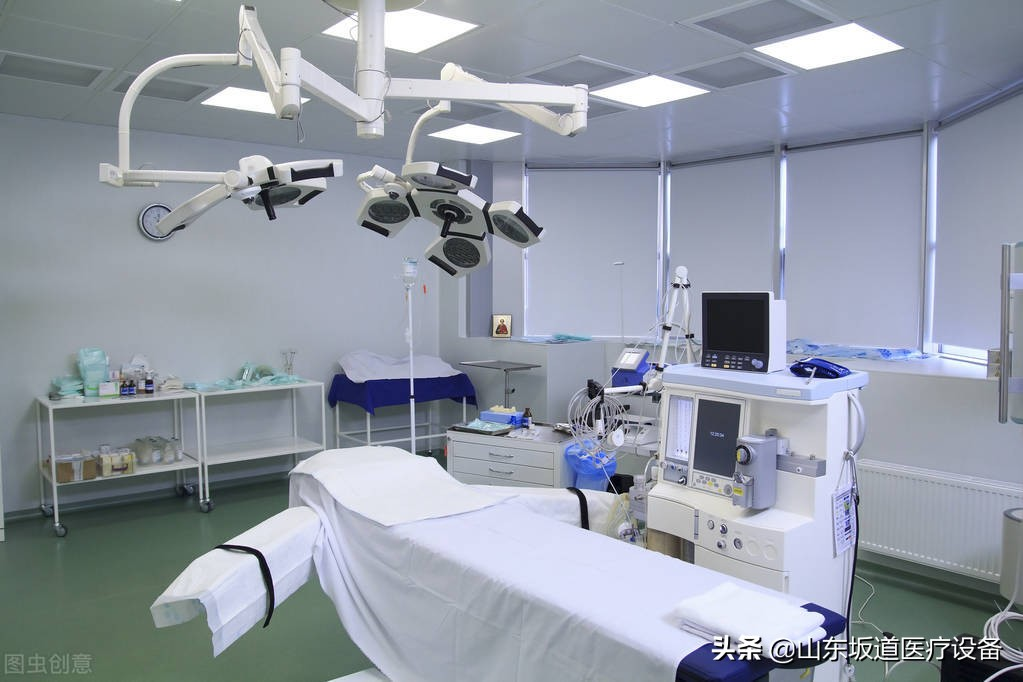bedside_monitor: (701, 288, 777, 365)
handle: (989, 234, 1023, 433), (488, 450, 515, 457), (490, 467, 513, 474)
iv_pole: (393, 250, 429, 444)
medical_drawer: (440, 421, 569, 490)
operating_bed: (154, 447, 848, 682)
surgical_light: (353, 159, 548, 282), (156, 157, 346, 247)
table: (457, 356, 545, 405)
utility_cart: (40, 371, 207, 529), (201, 370, 331, 528)
